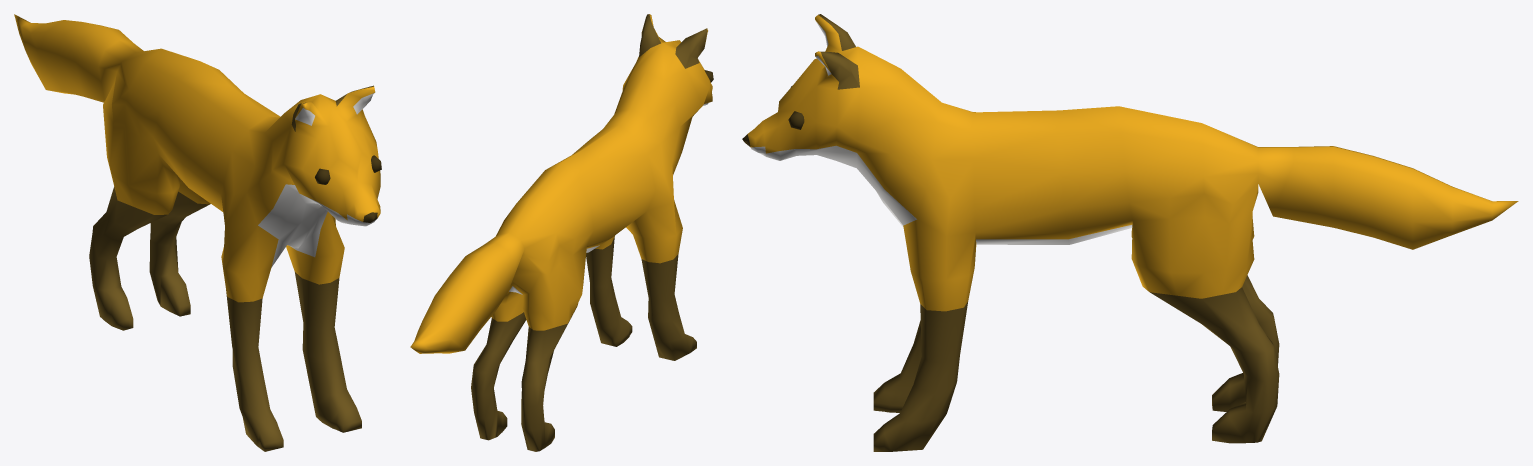
The model's file is fox.gltf.
3 renders of one model, left to right at view 1: azimuth 30°, elevation 25°; view 2: azimuth 150°, elevation 25°; view 3: azimuth 270°, elevation 25°, orthographic. The views are drawn at different scales.
Parts seen in each view (by area): view 1: node-0; view 2: node-0; view 3: node-0.
Boxes of the visible parts, left/top/right/bottom form: node-0: left=14, top=14, right=381, bottom=451; node-0: left=410, top=14, right=713, bottom=451; node-0: left=742, top=14, right=1518, bottom=451.
Bounding box in the file's own units: 129 × 393 × 704.
